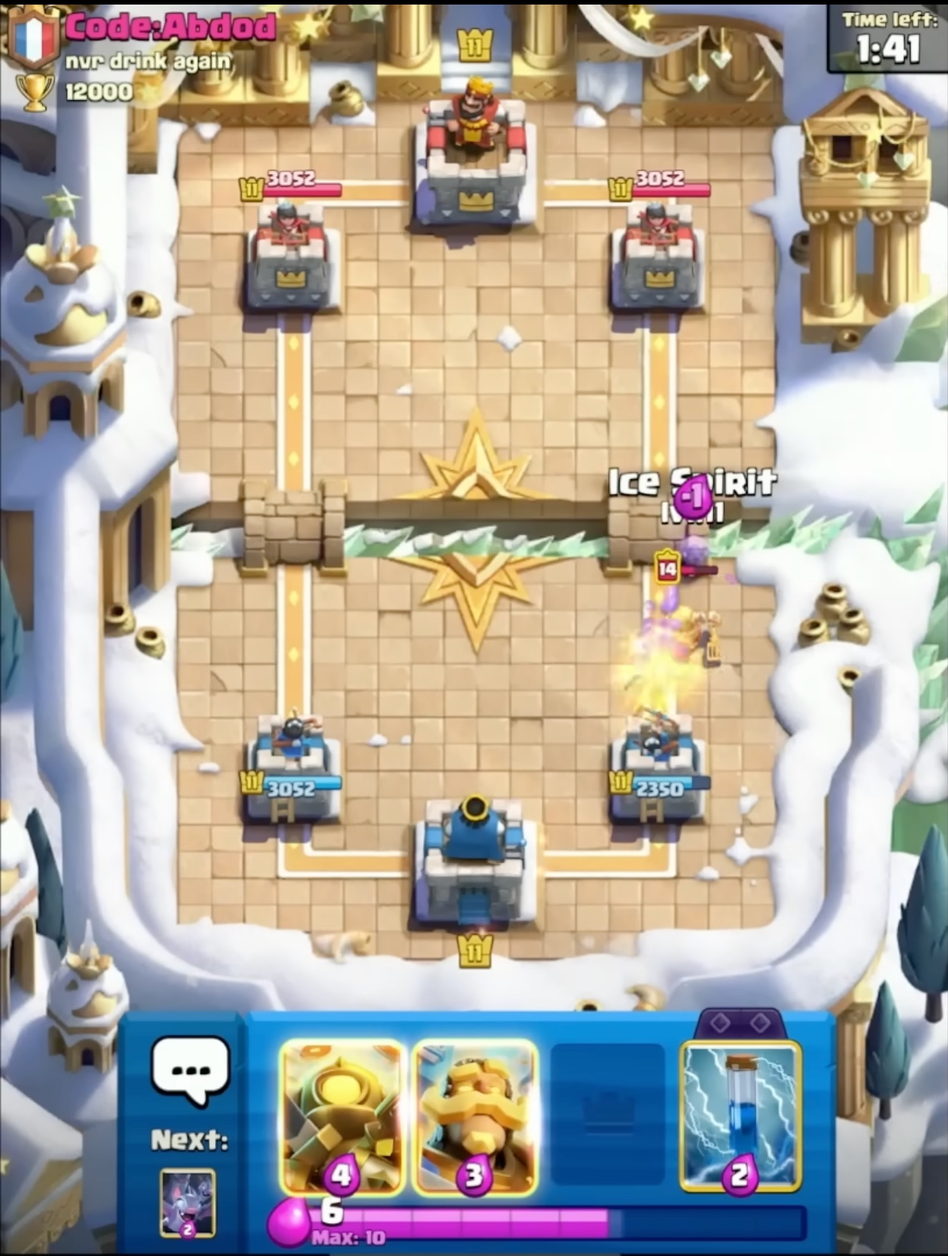hero-mini-pekka: (643, 549, 729, 675)
